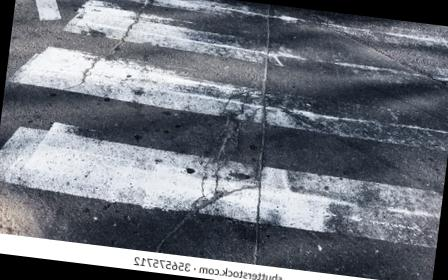faded_road_lines: (7, 39, 448, 154), (69, 0, 448, 90), (0, 123, 213, 210), (90, 0, 448, 42), (261, 167, 443, 247), (201, 163, 257, 221), (26, 0, 66, 23)
